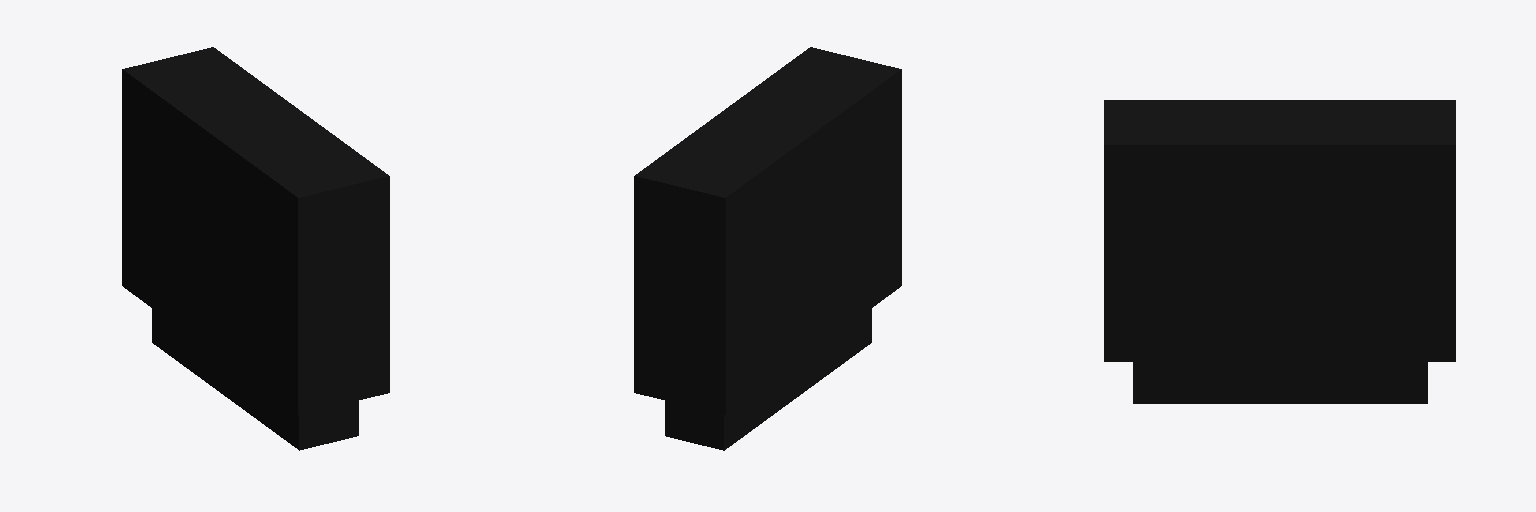
The model's file is Cartridge.obj.
3 views of the same model, side by side, from view 1: azimuth 30°, elevation 25°; view 2: azimuth 150°, elevation 25°; view 3: azimuth 270°, elevation 25° (orthographic).
Visible parts, largest first — view 1: Cube; view 2: Cube; view 3: Cube.
Part boxes in pixels (x1,y1,x2,y2): Cube: (122,47,389,450); Cube: (634,47,901,450); Cube: (1104,100,1455,403).
Size of the model in its own units: 0.7148 by 2 by 2.39.